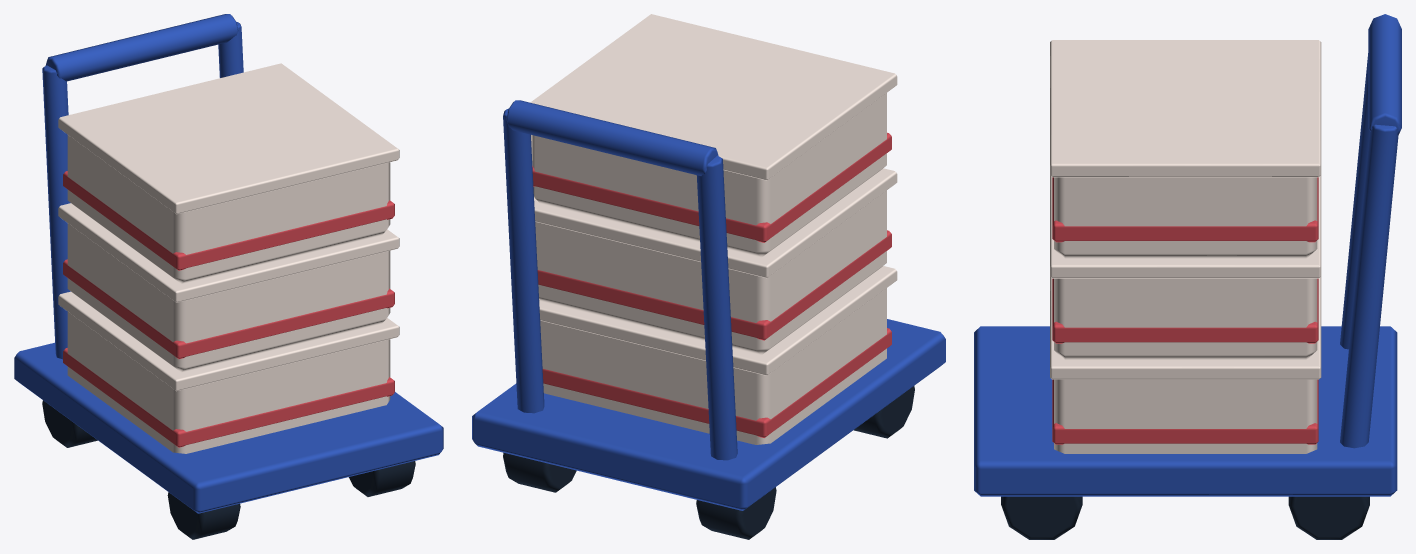
The model's file is shutter_trolley.glb.
The picture shows the model from 3 angles, left to right: view 1: azimuth 30°, elevation 25°; view 2: azimuth 150°, elevation 25°; view 3: azimuth 270°, elevation 25°; orthographic projection. The views are drawn at different scales.
Visible parts, largest first — view 1: shutter_trolley; view 2: shutter_trolley; view 3: shutter_trolley.
Boxes of the visible parts, x1=… form: shutter_trolley: x1=14, y1=14, x2=443, y2=539; shutter_trolley: x1=472, y1=14, x2=945, y2=539; shutter_trolley: x1=974, y1=14, x2=1401, y2=539.
Bounding box in the file's own units: 0.83 × 1.16 × 1.07.
